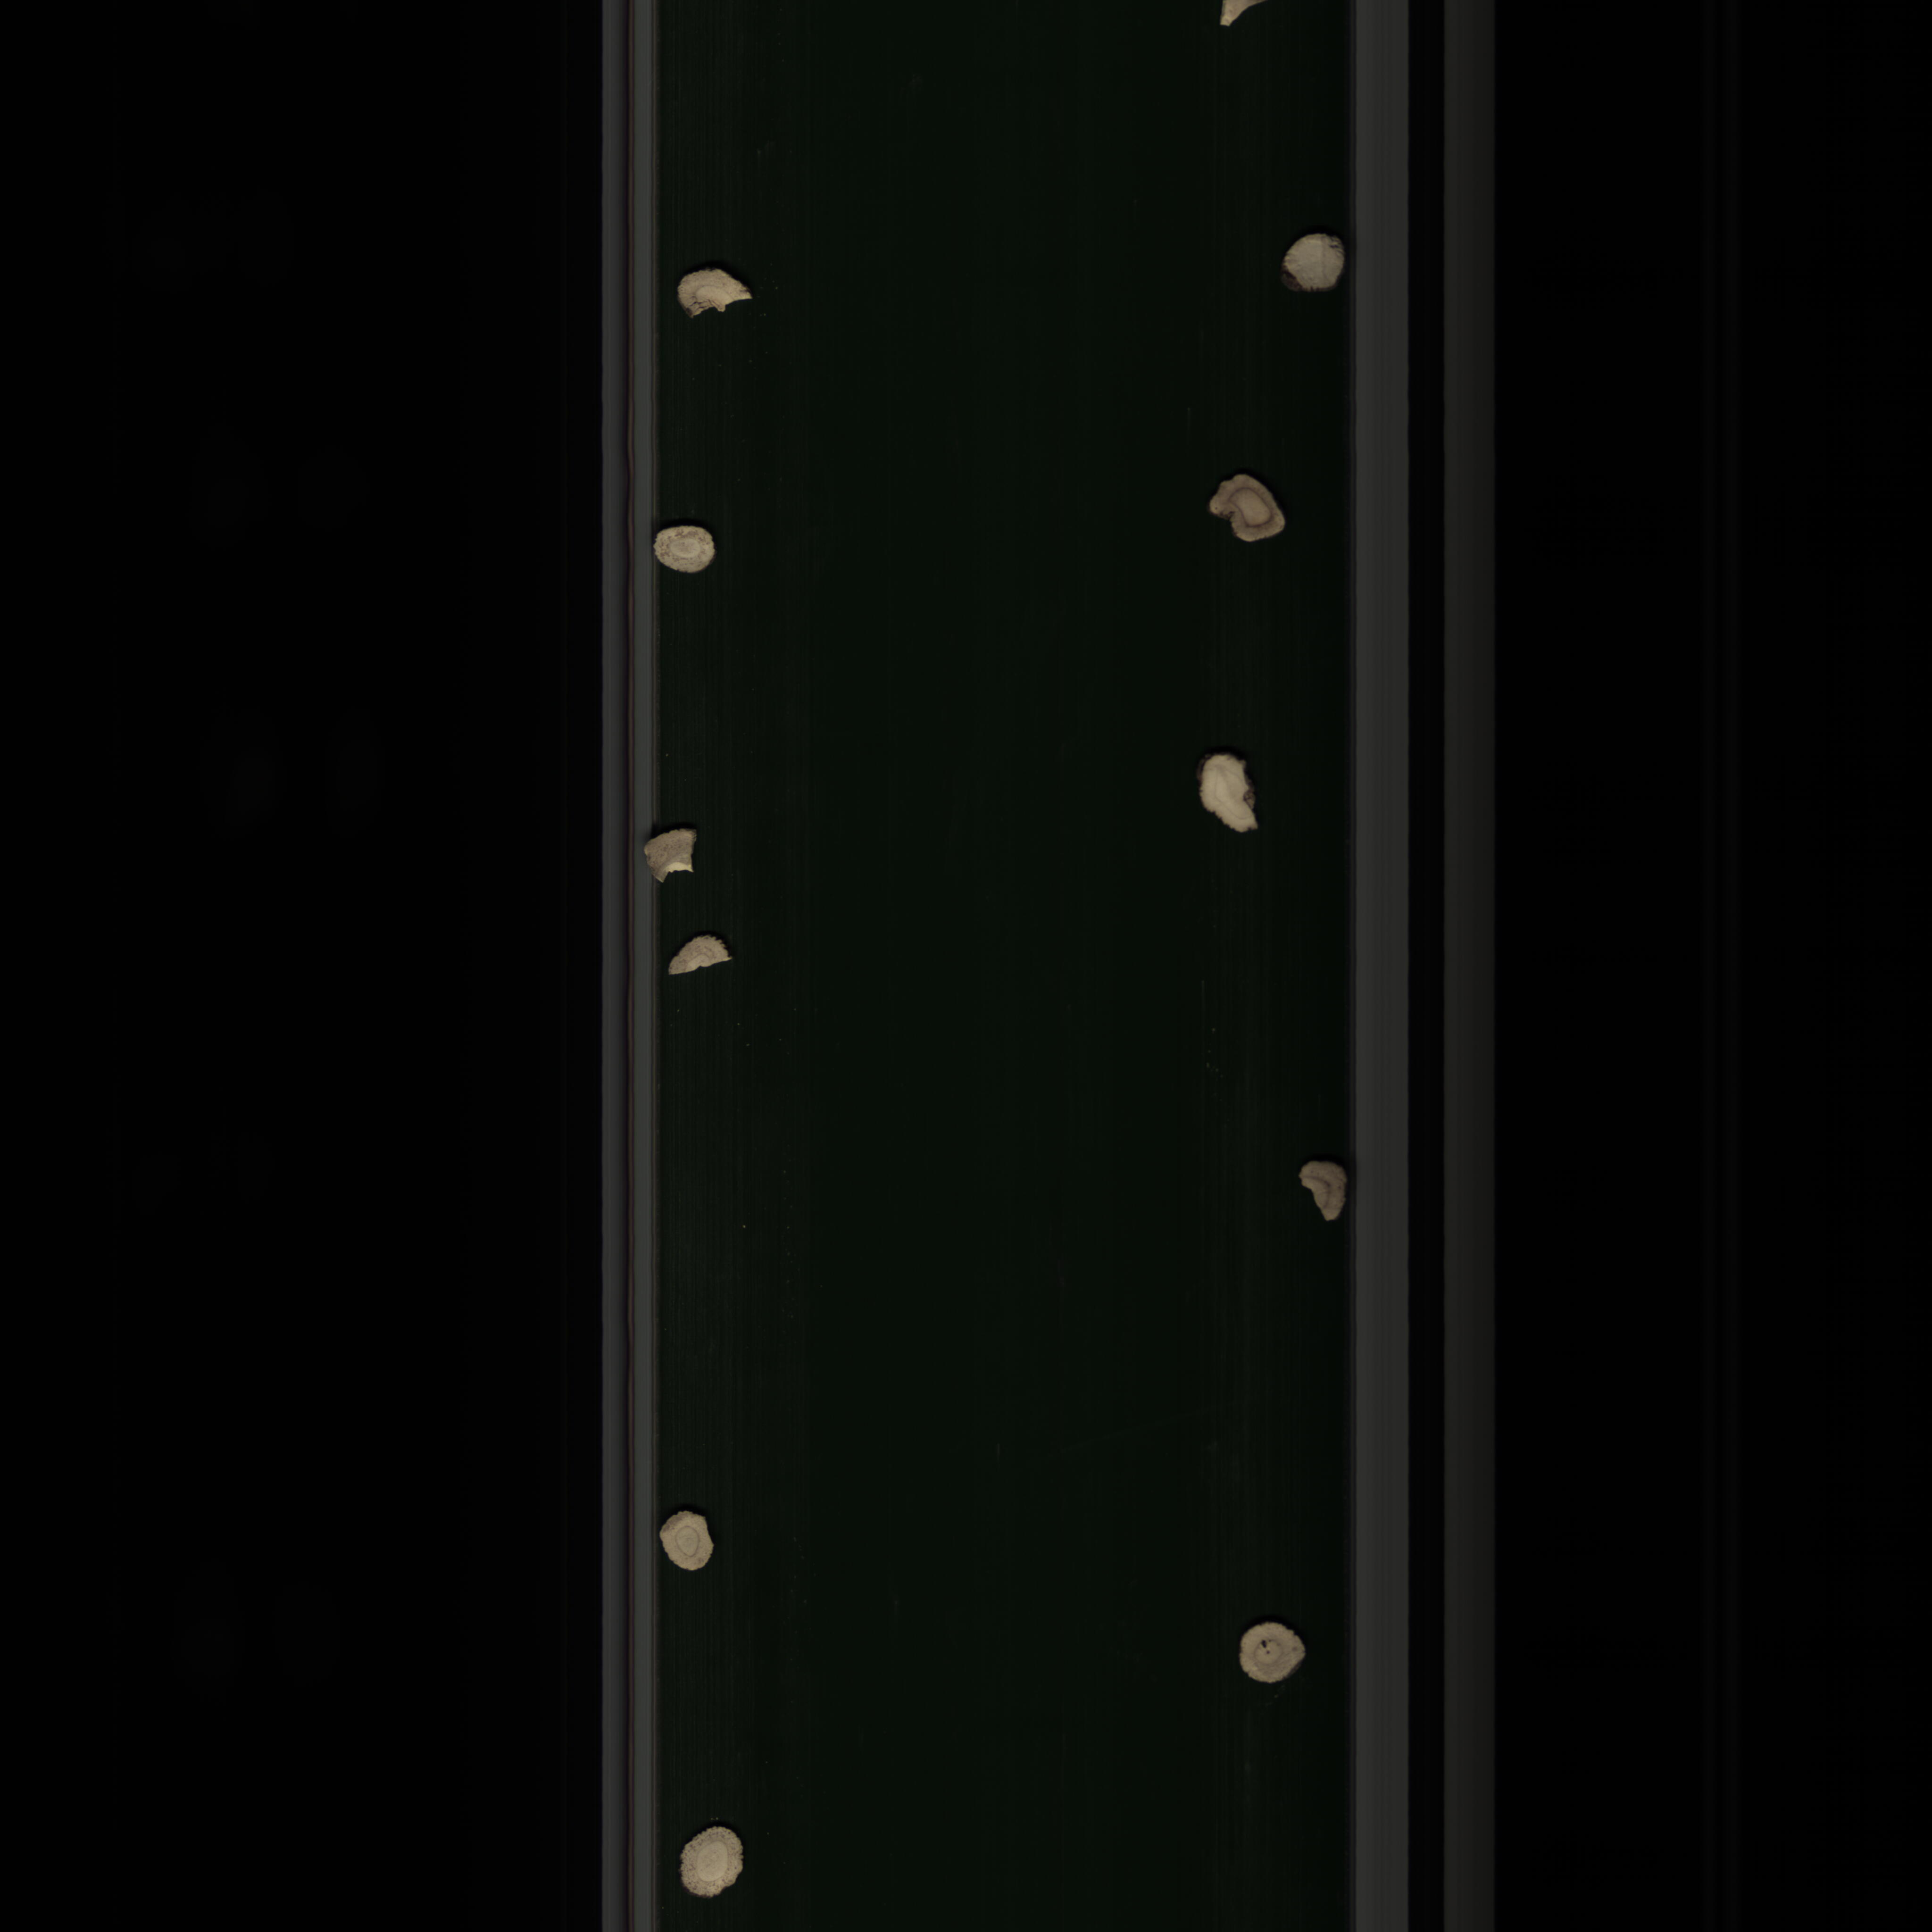debris: (1191, 745, 1283, 856), (671, 269, 764, 324), (1290, 1157, 1348, 1231), (663, 932, 743, 980), (637, 828, 701, 886)
hole: (1228, 1615, 1316, 1691)
moldy: (1194, 464, 1297, 554)
